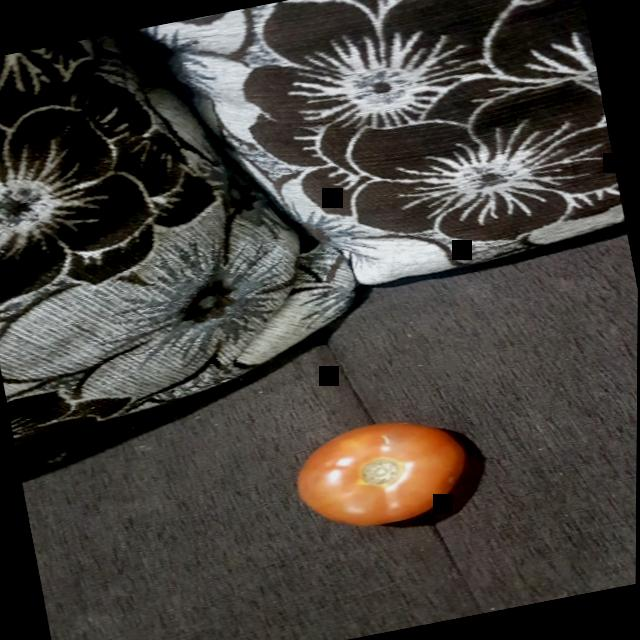tomato: (281, 397, 481, 551)
